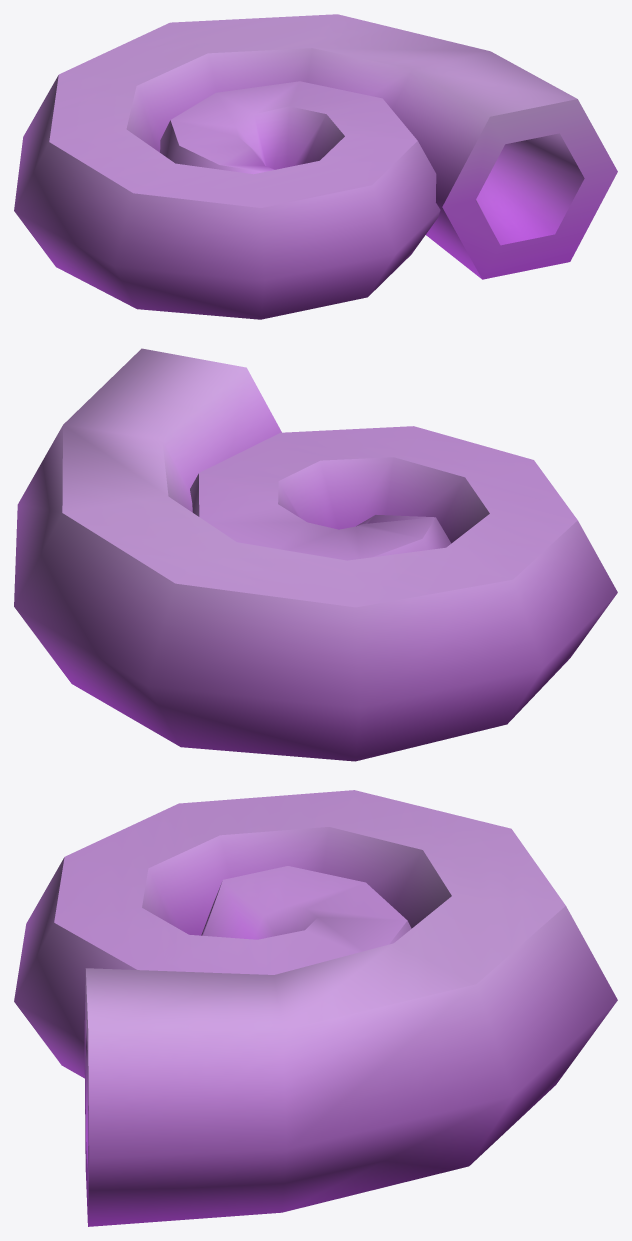
File: SpiralShell.fbx
3 renders of one model, top to bottom at view 1: azimuth 30°, elevation 25°; view 2: azimuth 150°, elevation 25°; view 3: azimuth 270°, elevation 25°, orthographic. The views are drawn at different scales.
Parts seen in each view (by area): view 1: SpiralShell; view 2: SpiralShell; view 3: SpiralShell.
Part boxes in pixels (box(x1,y1,x2,y2)): SpiralShell: box(14, 14, 617, 319); SpiralShell: box(14, 348, 617, 761); SpiralShell: box(14, 790, 617, 1226).
Bounding box in the file's own units: 0.3996 × 0.128 × 0.3355.
